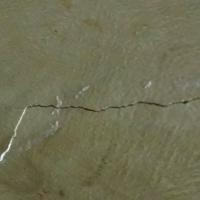crack: (0, 81, 199, 190)
